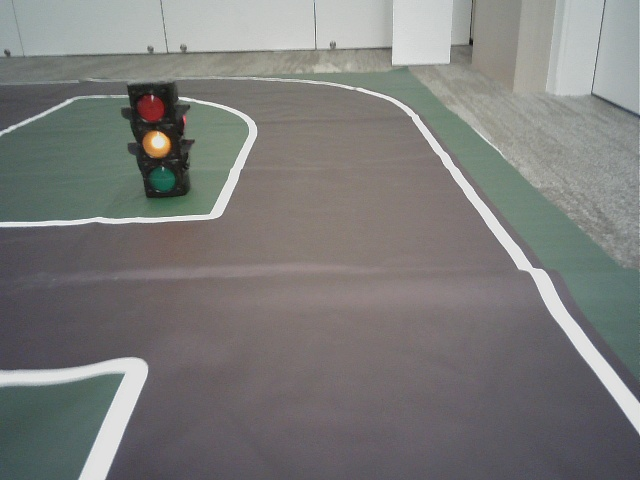yellow: (129, 89, 183, 194)
